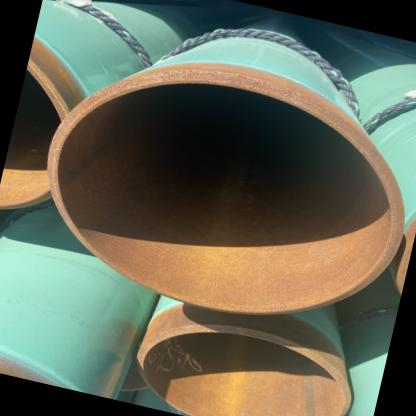clean: (237, 66, 292, 118)
